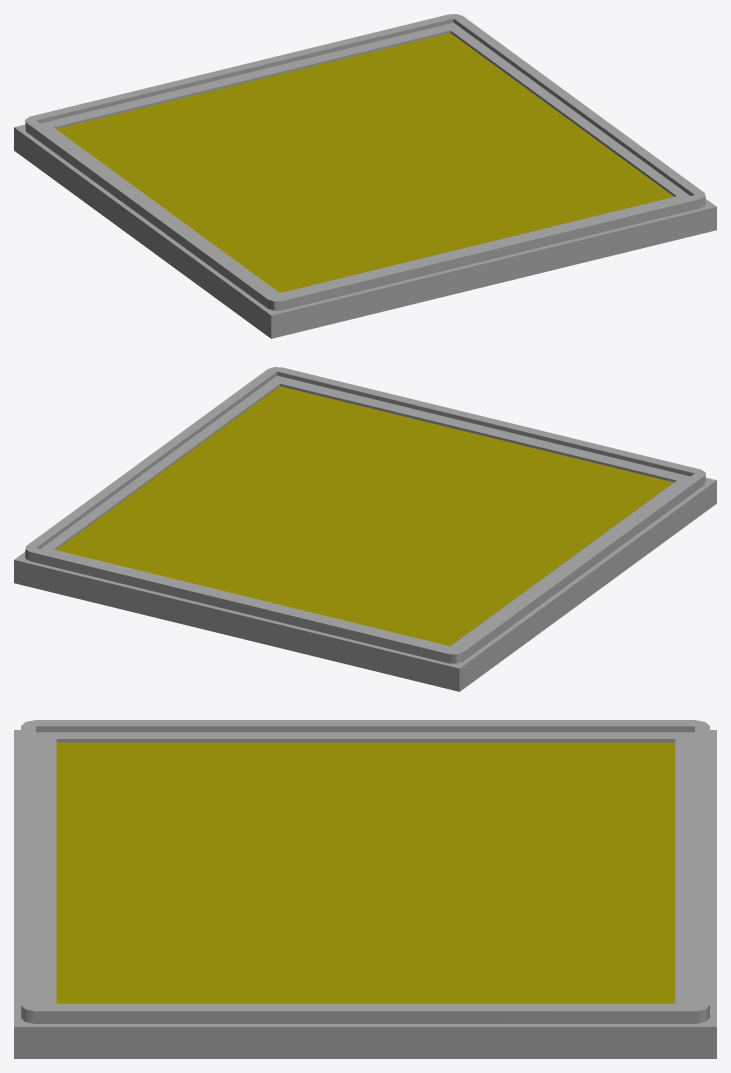
File: SM_Ceiling_05_D.fbx
3 renders of one model, top to bottom at view 1: azimuth 30°, elevation 25°; view 2: azimuth 150°, elevation 25°; view 3: azimuth 270°, elevation 25°, orthographic. The views are drawn at different scales.
Visible parts, largest first — view 1: polySurface4432; view 2: polySurface4432; view 3: polySurface4432.
Boxes of the visible parts, box(x1,y1,x2,y2) form: polySurface4432: box(14, 14, 716, 338); polySurface4432: box(14, 367, 716, 691); polySurface4432: box(14, 720, 716, 1058).
Bounding box in the file's own units: 100 × 7 × 100.
